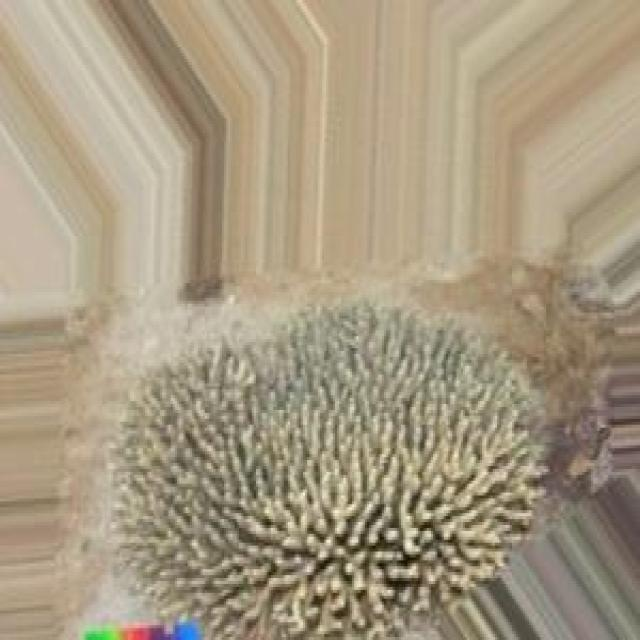Bleached: (110, 299, 543, 638)
